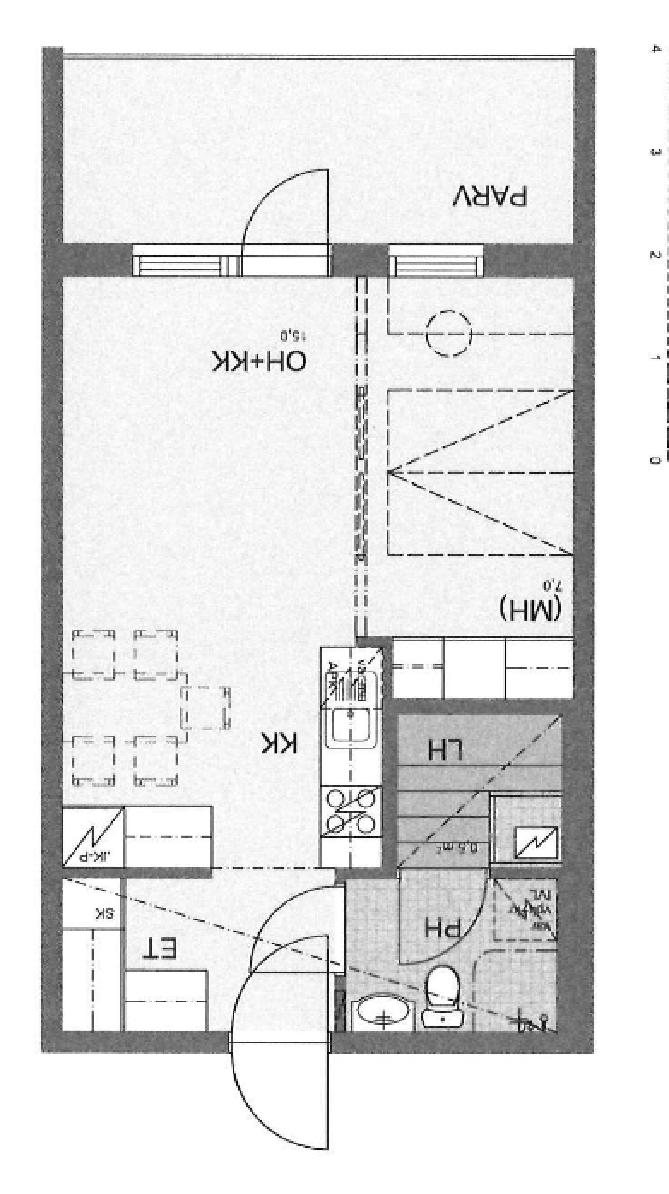door: (216, 931, 345, 1159), (245, 872, 355, 981), (240, 156, 335, 274), (399, 856, 489, 972)
window: (388, 251, 484, 282), (127, 248, 240, 274)
zone: (59, 275, 570, 864), (60, 54, 577, 246), (58, 875, 354, 1038), (342, 873, 559, 1031), (397, 713, 563, 858)
